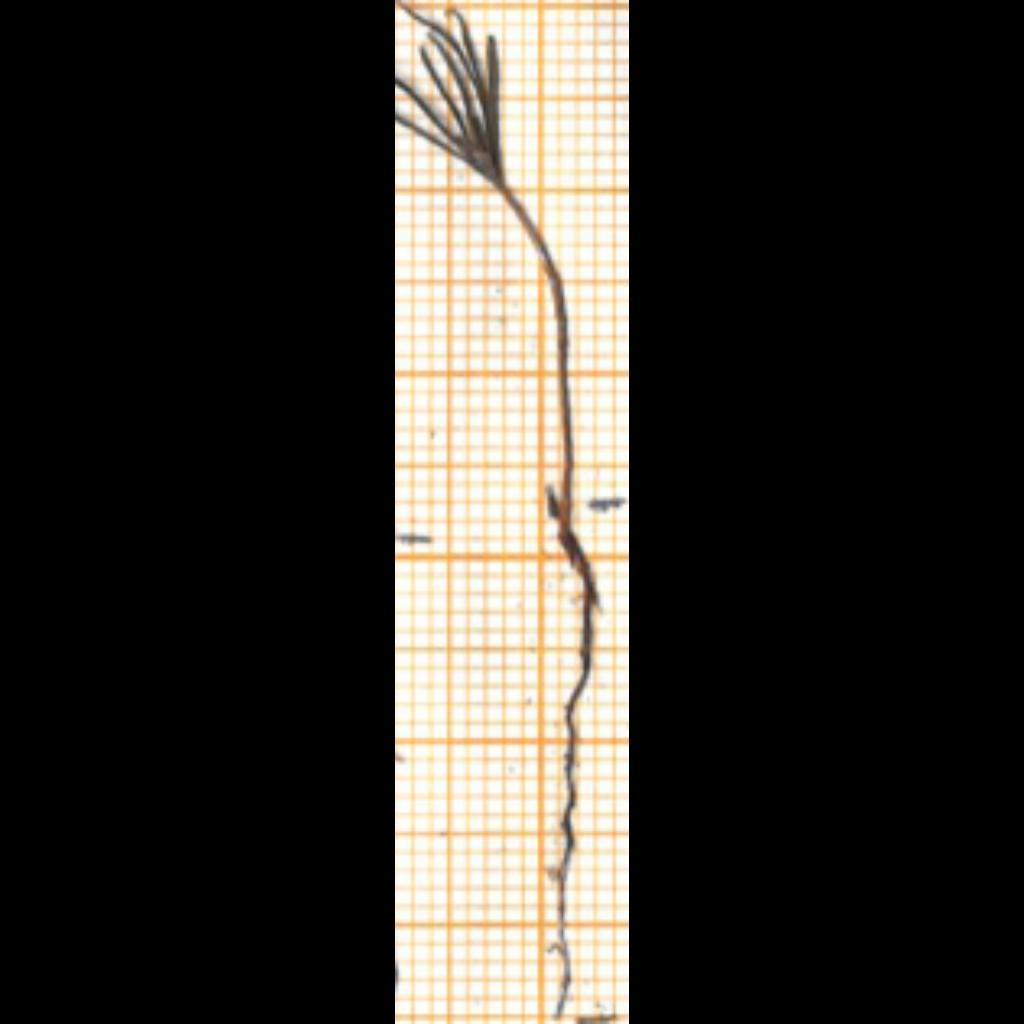rootPinus: (545, 530, 599, 1017), (395, 4, 502, 188)
stemPinus: (503, 186, 573, 526)
